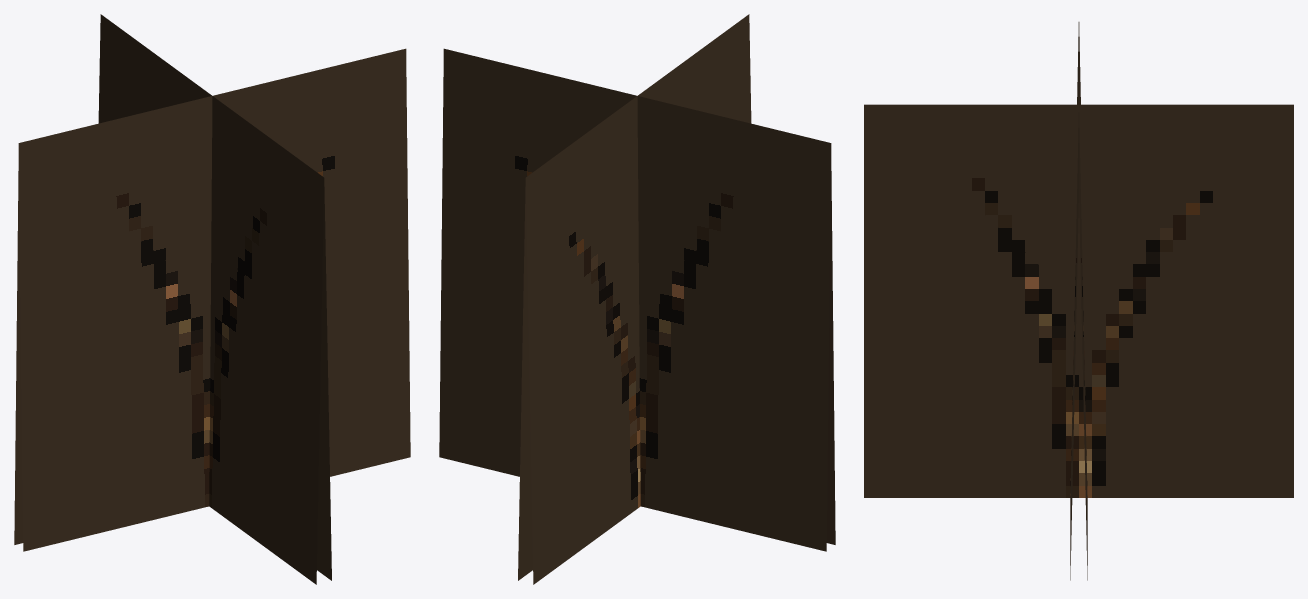
File: grass08_winter.glb
3 views of the same model, side by side, from view 1: azimuth 30°, elevation 25°; view 2: azimuth 150°, elevation 25°; view 3: azimuth 270°, elevation 25° (orthographic). The views are drawn at different scales.
Parts seen in each view (by area): view 1: grass08; view 2: grass08; view 3: grass08.
Part boxes in pixels (<box>): grass08: <box>14,14,410,584</box>; grass08: <box>439,14,835,584</box>; grass08: <box>864,22,1293,580</box>.
Size of the model in its own units: 0.4 by 0.4 by 0.4.
Materials: 1 (1 with a texture image).
